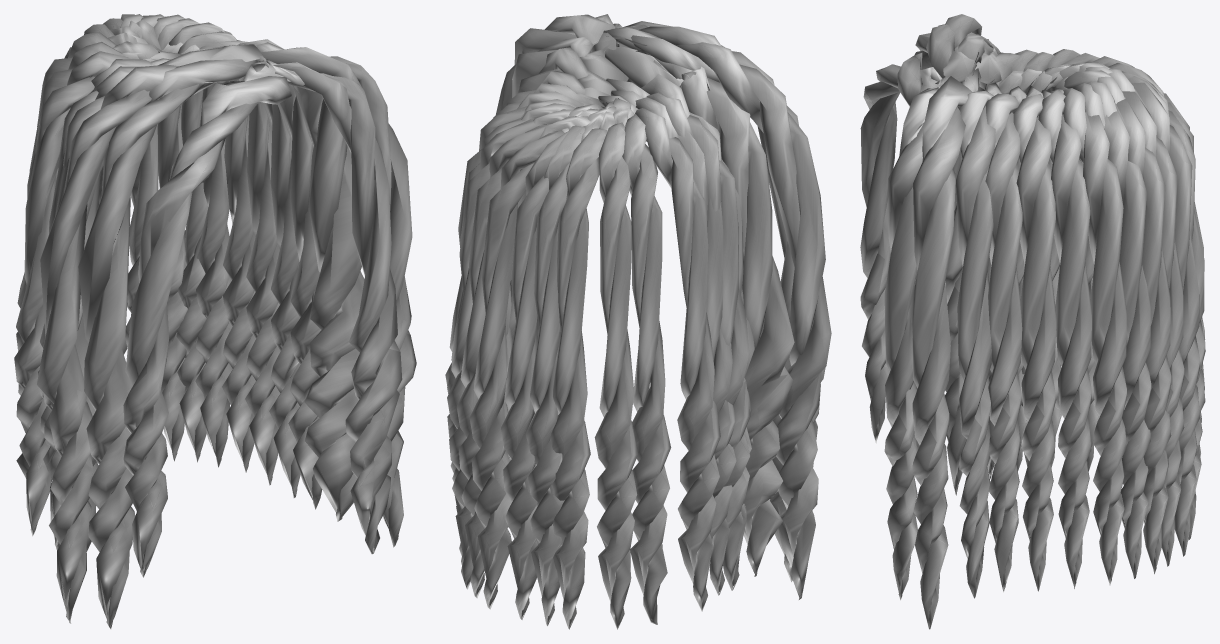
Rendered from Perfect_hair_rasta.fbx.
The picture shows the model from 3 angles, left to right: view 1: azimuth 30°, elevation 25°; view 2: azimuth 150°, elevation 25°; view 3: azimuth 270°, elevation 25°; orthographic projection. The views are drawn at different scales.
Parts seen in each view (by area): view 1: Perfect_hair_rasta; view 2: Perfect_hair_rasta; view 3: Perfect_hair_rasta.
Part boxes in pixels (box(x1,y1,x2,y2)): Perfect_hair_rasta: box(14, 14, 416, 629); Perfect_hair_rasta: box(445, 14, 831, 629); Perfect_hair_rasta: box(860, 14, 1205, 629).
Size of the model in its own units: 3.44 by 4.87 by 2.95.
